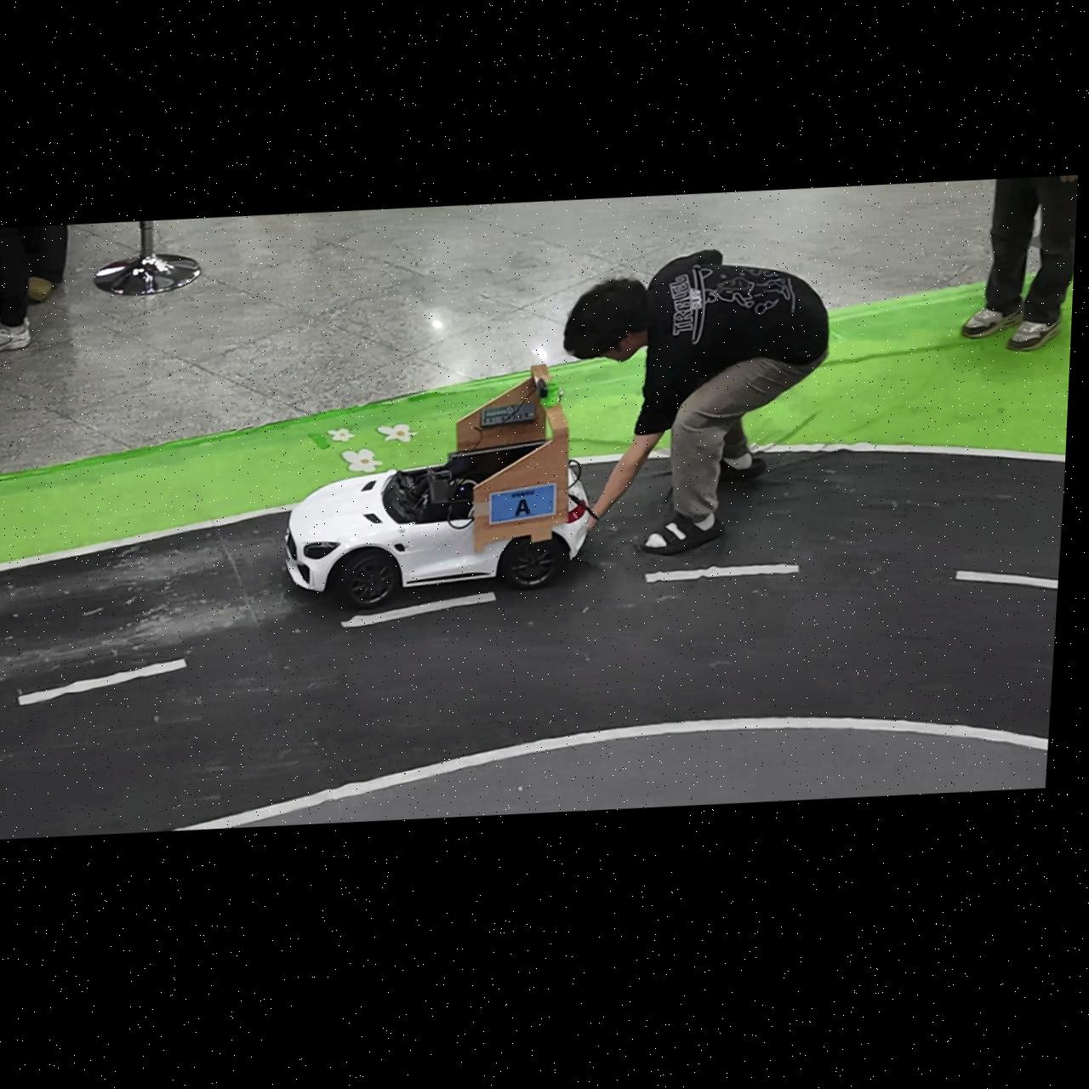broken_line: (19, 659, 187, 705), (342, 592, 496, 627), (645, 564, 799, 583), (955, 570, 1058, 588)
